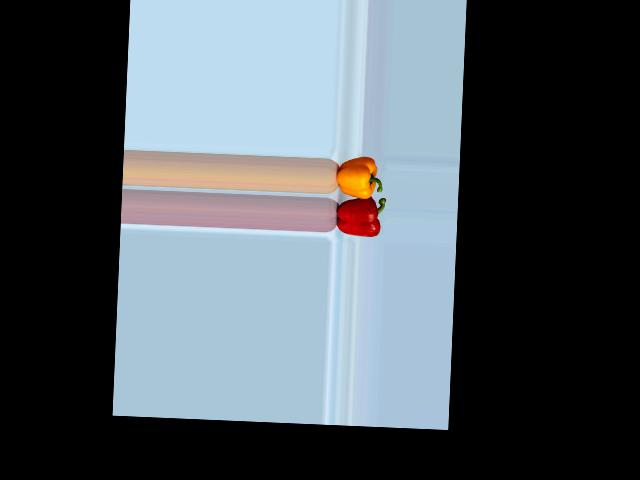bell_pepper: (330, 194, 384, 241)
